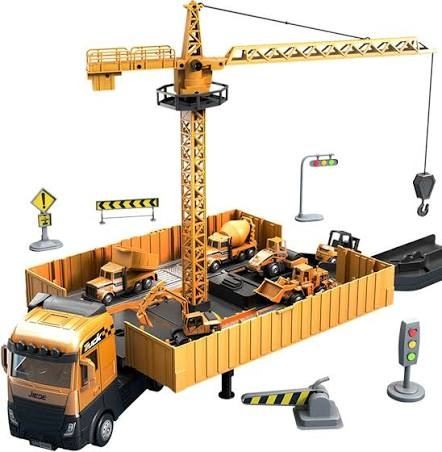crane: (87, 5, 439, 321)
